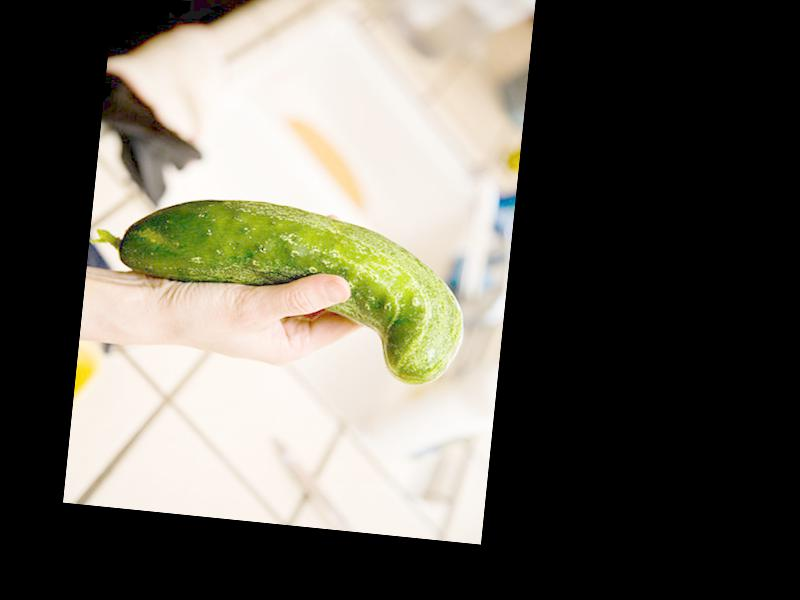Cucumber: (84, 184, 474, 388)
